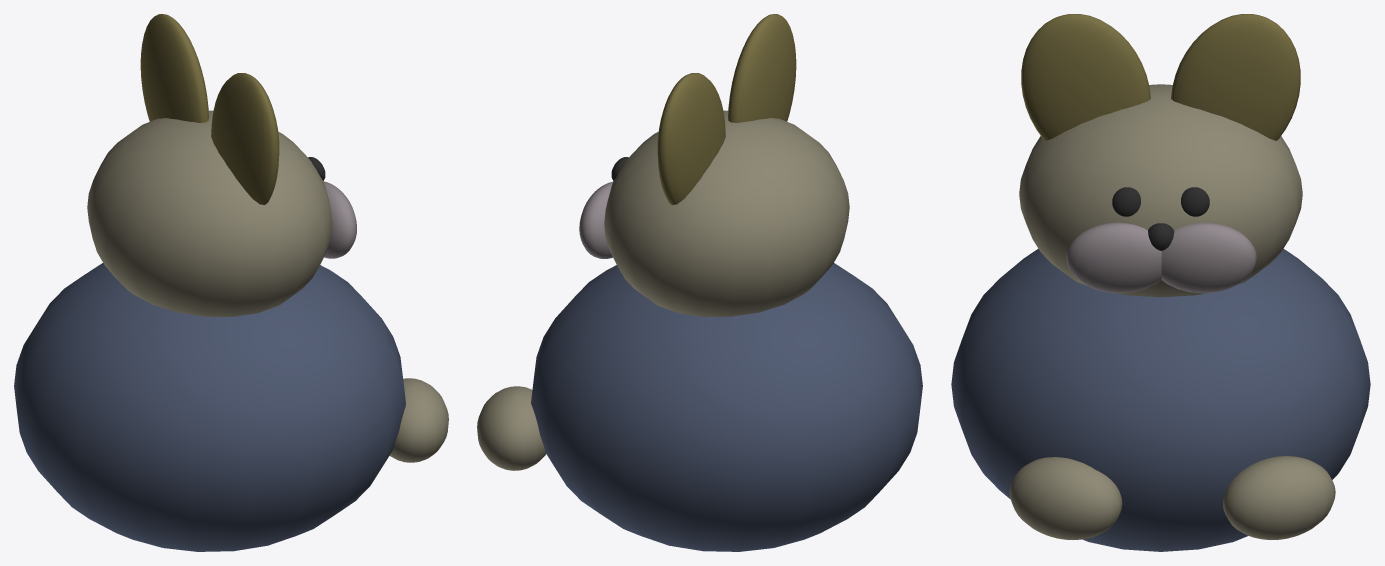
The model's file is doll.fbx.
3 views of the same model, side by side, from view 1: azimuth 30°, elevation 25°; view 2: azimuth 150°, elevation 25°; view 3: azimuth 270°, elevation 25° (orthographic). The views are drawn at different scales.
Visible parts, largest first — view 1: pSphere1, pSphere2, pSphere6, pSphere3, pSphere5; view 2: pSphere1, pSphere2, pSphere6, pSphere3, pSphere5; view 3: pSphere1, pSphere2, pSphere6, pSphere3, pSphere5, pasted__pSphere4, pSphere4.
Boxes of the visible parts, box(x1,y1,x2,y2) form: pSphere1: box(14, 263, 405, 551); pSphere2: box(87, 110, 332, 316); pSphere6: box(140, 14, 279, 204); pSphere3: box(389, 378, 448, 462); pSphere5: box(324, 181, 356, 258); pSphere1: box(531, 263, 922, 551); pSphere2: box(604, 110, 849, 316); pSphere6: box(657, 14, 796, 204); pSphere3: box(477, 386, 546, 470); pSphere5: box(579, 181, 612, 258); pSphere1: box(951, 248, 1370, 551); pSphere2: box(1019, 84, 1302, 297); pSphere6: box(1021, 14, 1300, 140); pSphere3: box(1009, 456, 1335, 539); pSphere5: box(1066, 222, 1256, 293); pasted__pSphere4: box(1112, 187, 1209, 216); pSphere4: box(1148, 223, 1174, 250).
Size of the model in its own units: 7.08 by 8.98 by 6.65.
